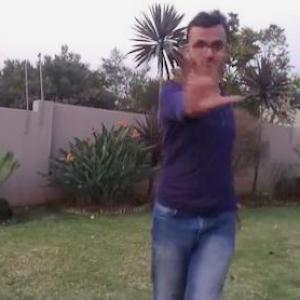follow_hand: (174, 44, 243, 112)
